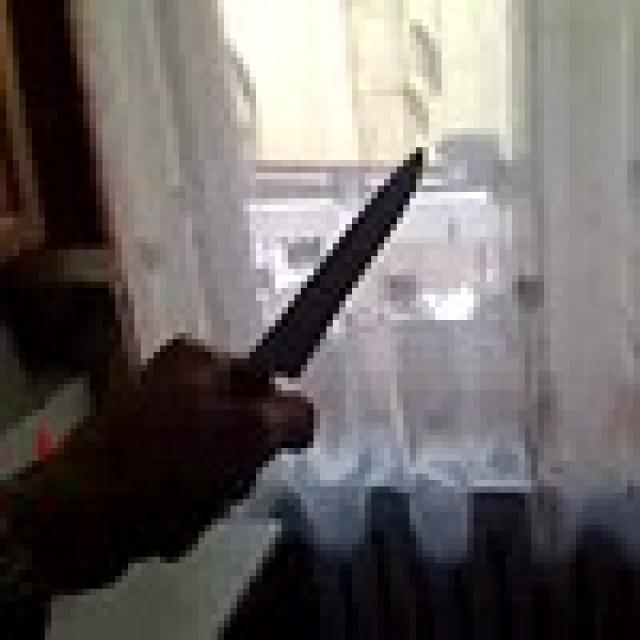Knife: (262, 140, 454, 454)
